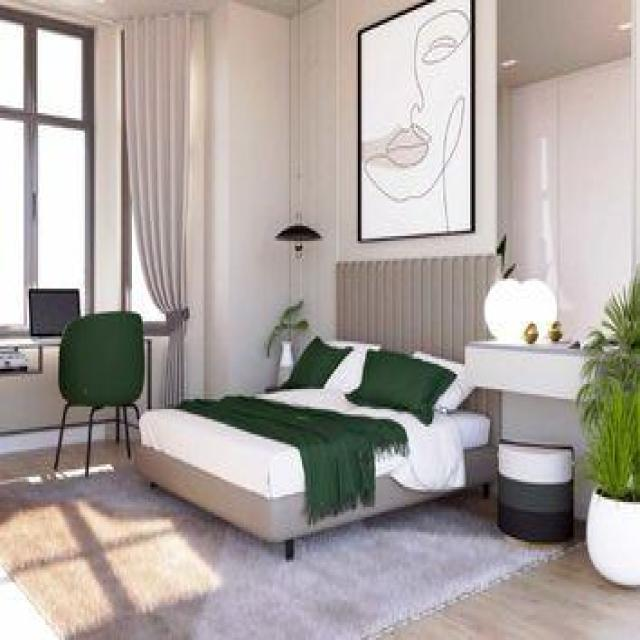Wall: (0, 443, 640, 639), (289, 0, 496, 338), (335, 0, 496, 259), (186, 3, 289, 397), (506, 59, 633, 339), (499, 0, 630, 86), (94, 24, 121, 311), (185, 16, 205, 397), (0, 1, 228, 25), (0, 347, 60, 433), (0, 429, 59, 454), (236, 0, 297, 16), (64, 427, 87, 445), (68, 408, 87, 423), (92, 425, 106, 440)
